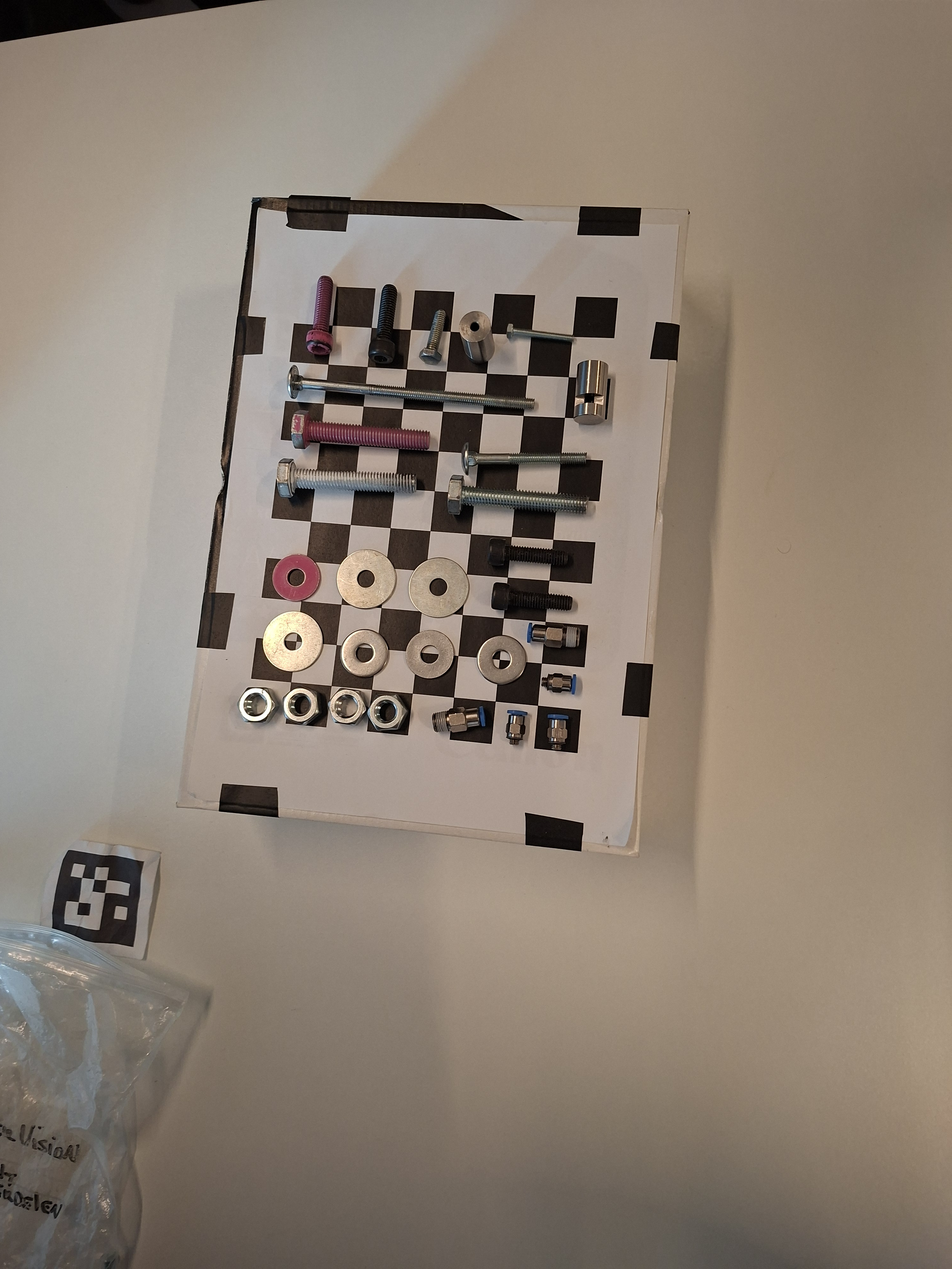allen_screw: (299, 270, 346, 360), (363, 280, 411, 365), (488, 580, 582, 623), (480, 536, 578, 577)
barrel_nut: (572, 357, 616, 429), (451, 309, 501, 369)
carriage_bolt: (284, 361, 540, 429), (457, 436, 595, 476)
hex_bolt: (443, 470, 596, 532), (284, 405, 436, 466), (272, 456, 424, 510), (500, 317, 582, 353), (411, 304, 455, 371)
hex_nut: (274, 678, 327, 734), (365, 687, 412, 737), (235, 681, 281, 730), (329, 683, 375, 732)
pneumatic_fitting: (423, 699, 493, 741), (539, 708, 578, 759), (521, 620, 585, 651), (498, 705, 532, 752), (536, 668, 583, 695)
washer: (256, 604, 333, 679), (403, 552, 473, 624), (333, 547, 405, 613), (334, 622, 399, 684), (402, 625, 463, 684), (473, 631, 536, 688), (270, 548, 329, 607)
